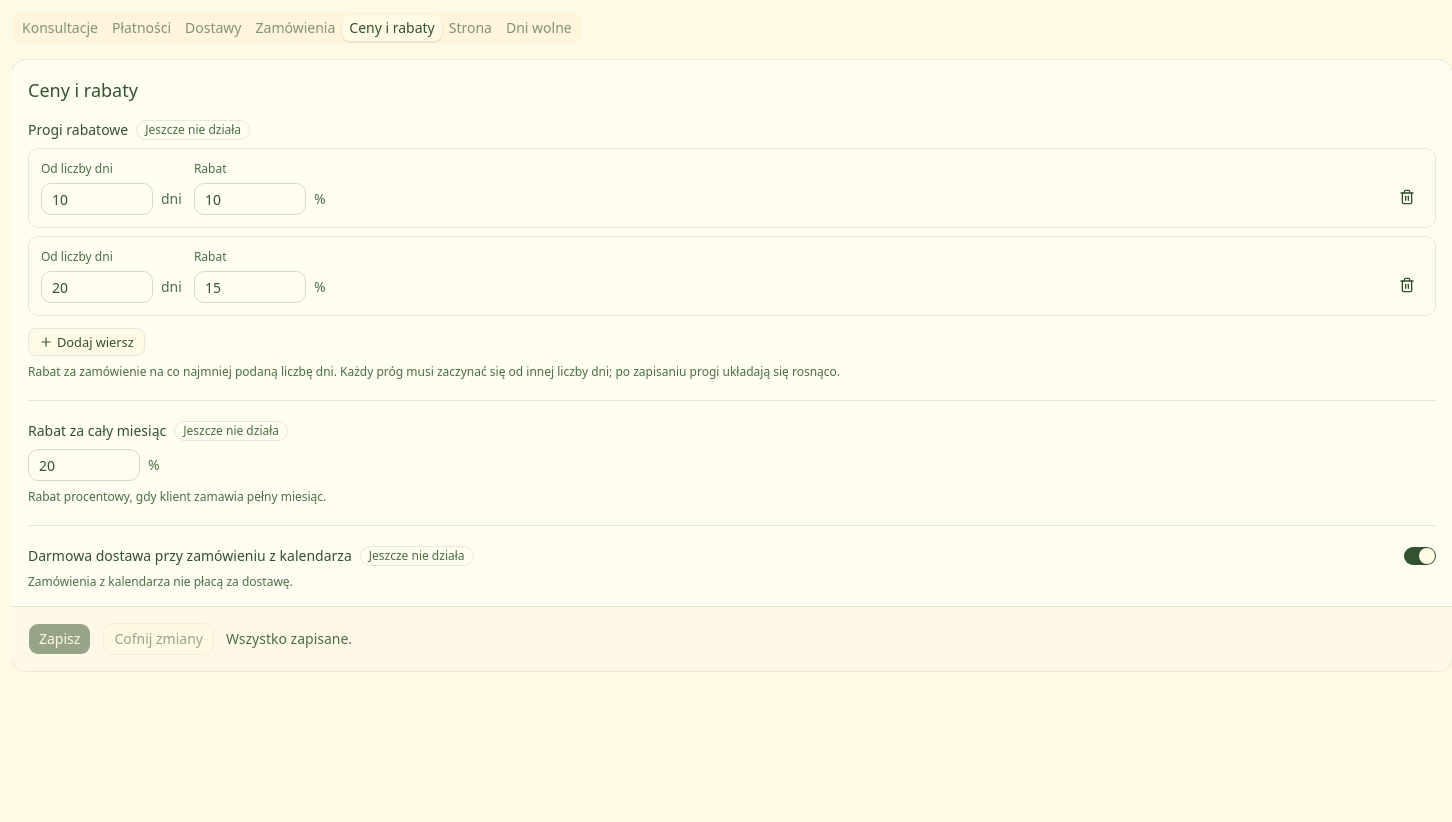
Test: SettingsForm (generated from the registry schema) › discount tiers: add a row, see a duplicate inline, fix it, save sorted; remove a row
This screenshot has width=1452, height=822.
Expected: the number of list items with test id "setting-discountTiers-row" is 2, [28,148,1436,228]; [28,236,1436,316]
Click the button with test id "setting-discountTiers-add". click: (86,342)
box: [28,328,145,356]
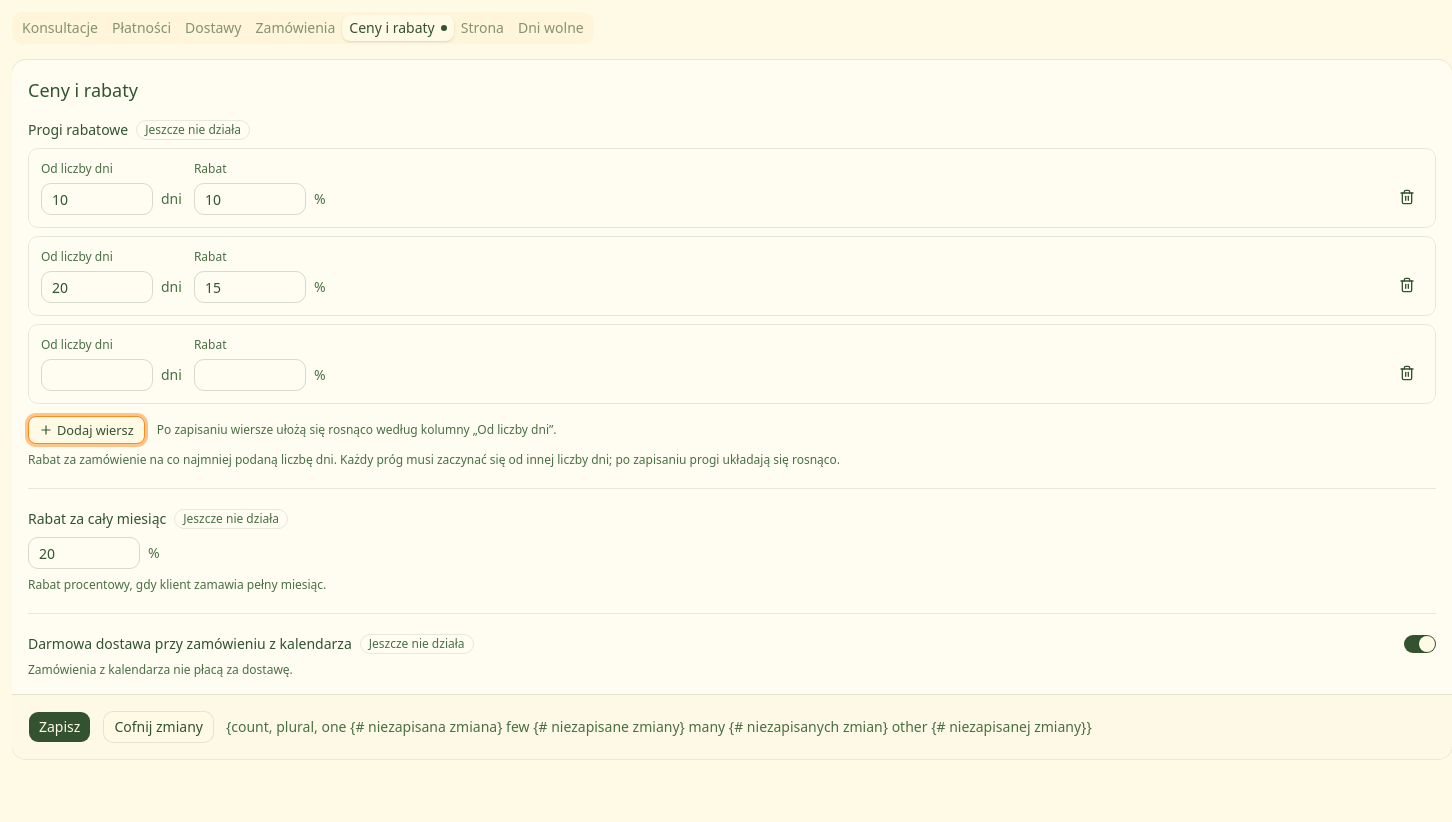
Expected: the number of list items with test id "setting-discountTiers-row" is 3, [28,148,1436,228]; [28,236,1436,316]; [28,324,1436,404]
Type "10" into the 3rd field labelled "Od liczby dni". click: (97,375)
box: [41,359,153,391]
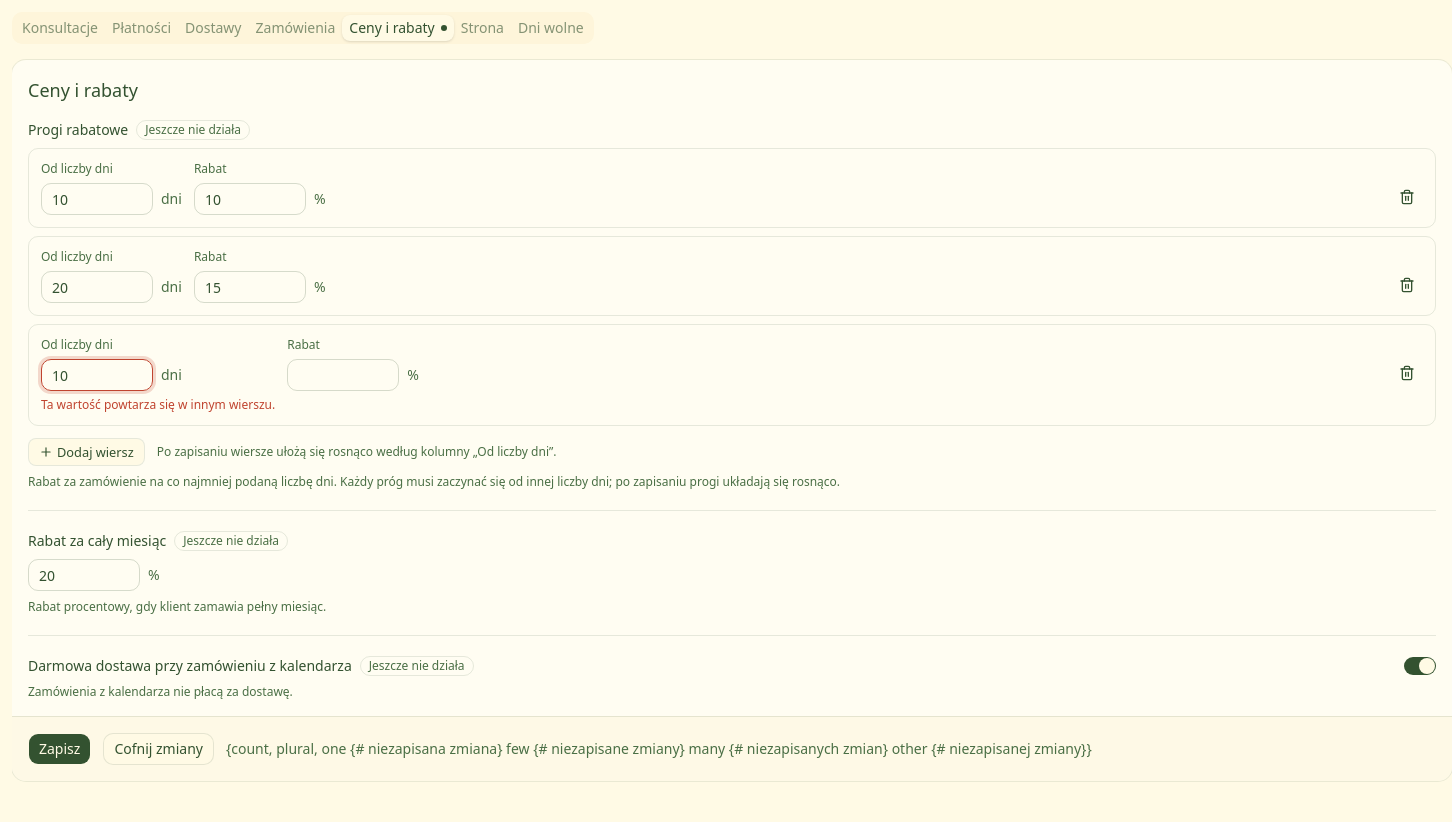
Expected: the text "Ta wartość powtarza się w innym wierszu." is shown, [41,397,275,413]
Replace the text in the 3rd field labelled "Od liczby dni" with "5". click: (97,375)
box: [41,359,153,391]
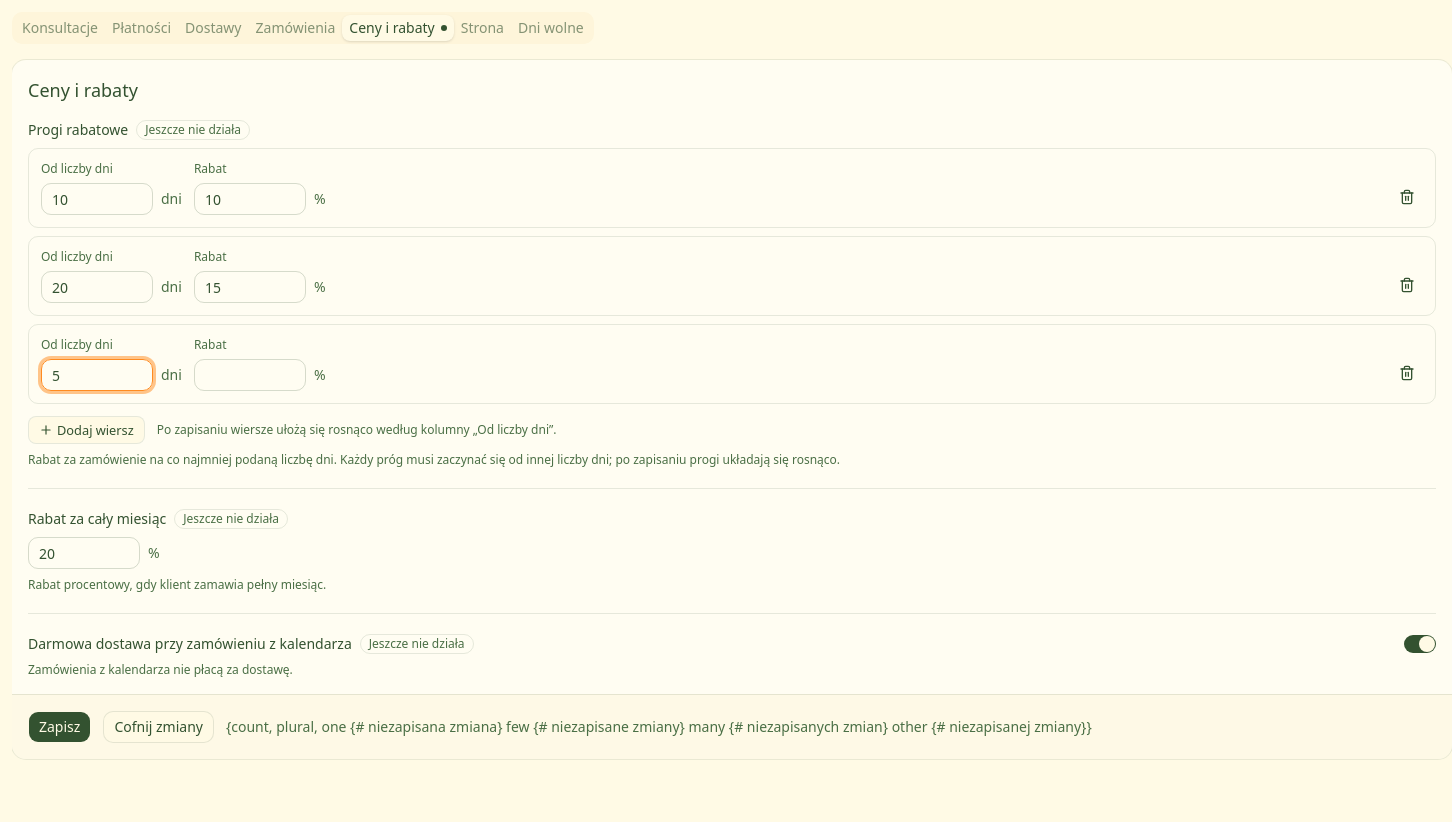
Type "5" into the 3rd field labelled "Rabat". click: (250,375)
box: [194,359,306,391]
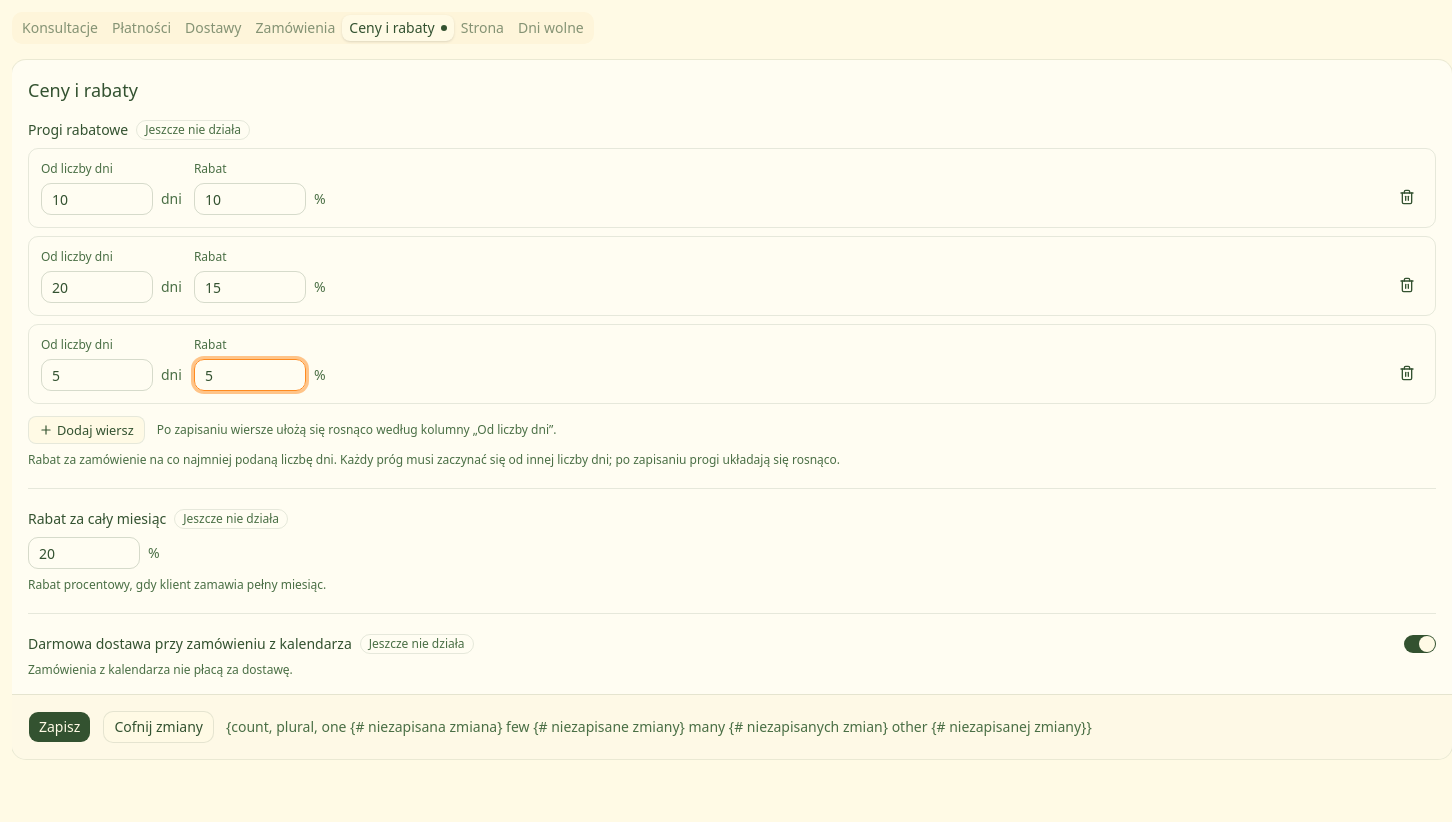
Expected: the text "Ta wartość powtarza się w innym wierszu." is not shown
Expected: the text with test id "setting-discountTiers-unsorted" is shown, [157,422,557,438]
Click the button with test id "settings-save-pricing". click: (60,727)
box: [28,711,91,743]
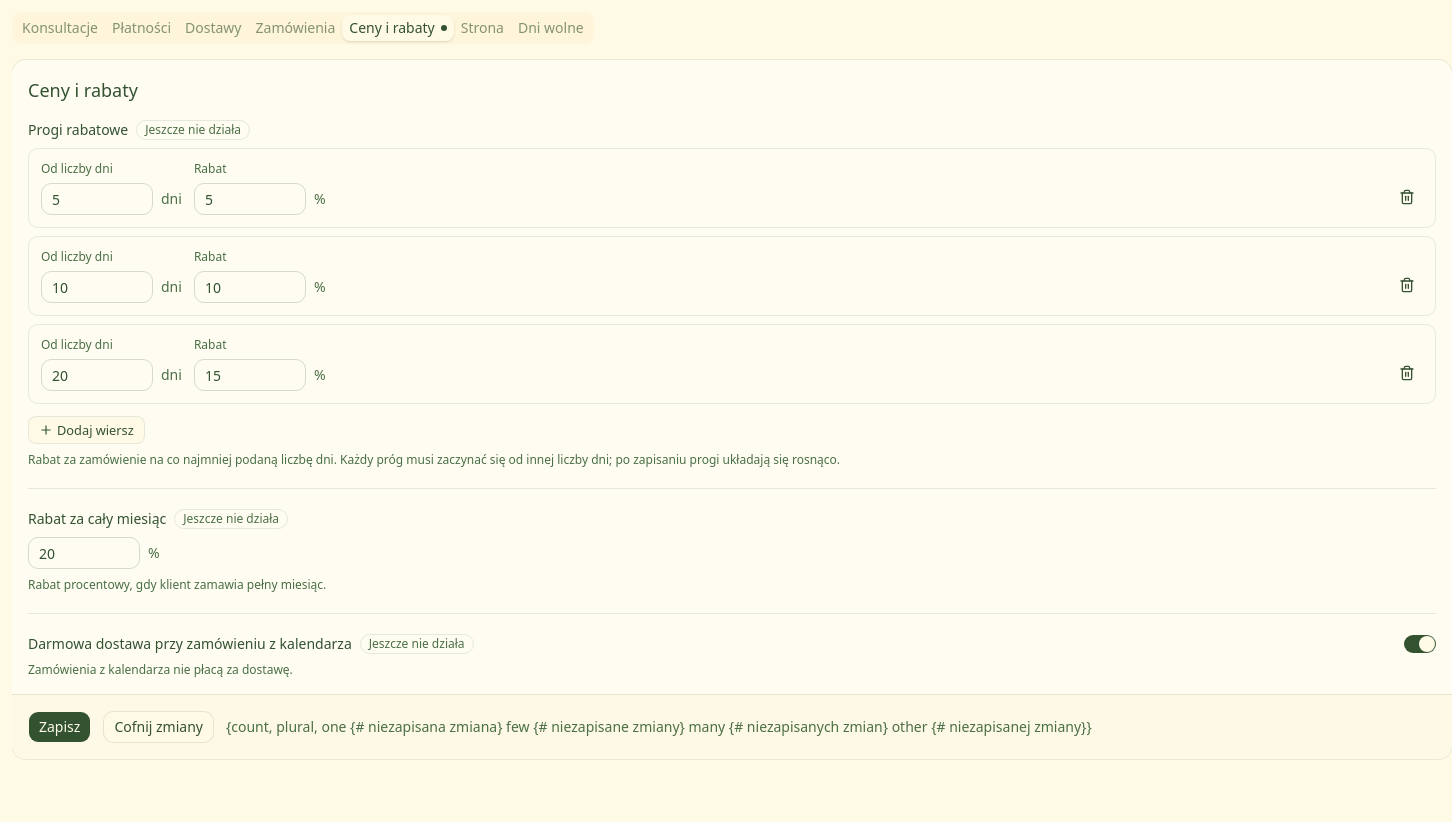
// After the save the form shows what the server stored (sorted).
Click the button with test id "setting-discountTiers-remove". click: (1407,197)
box: [1391,181,1423,213]
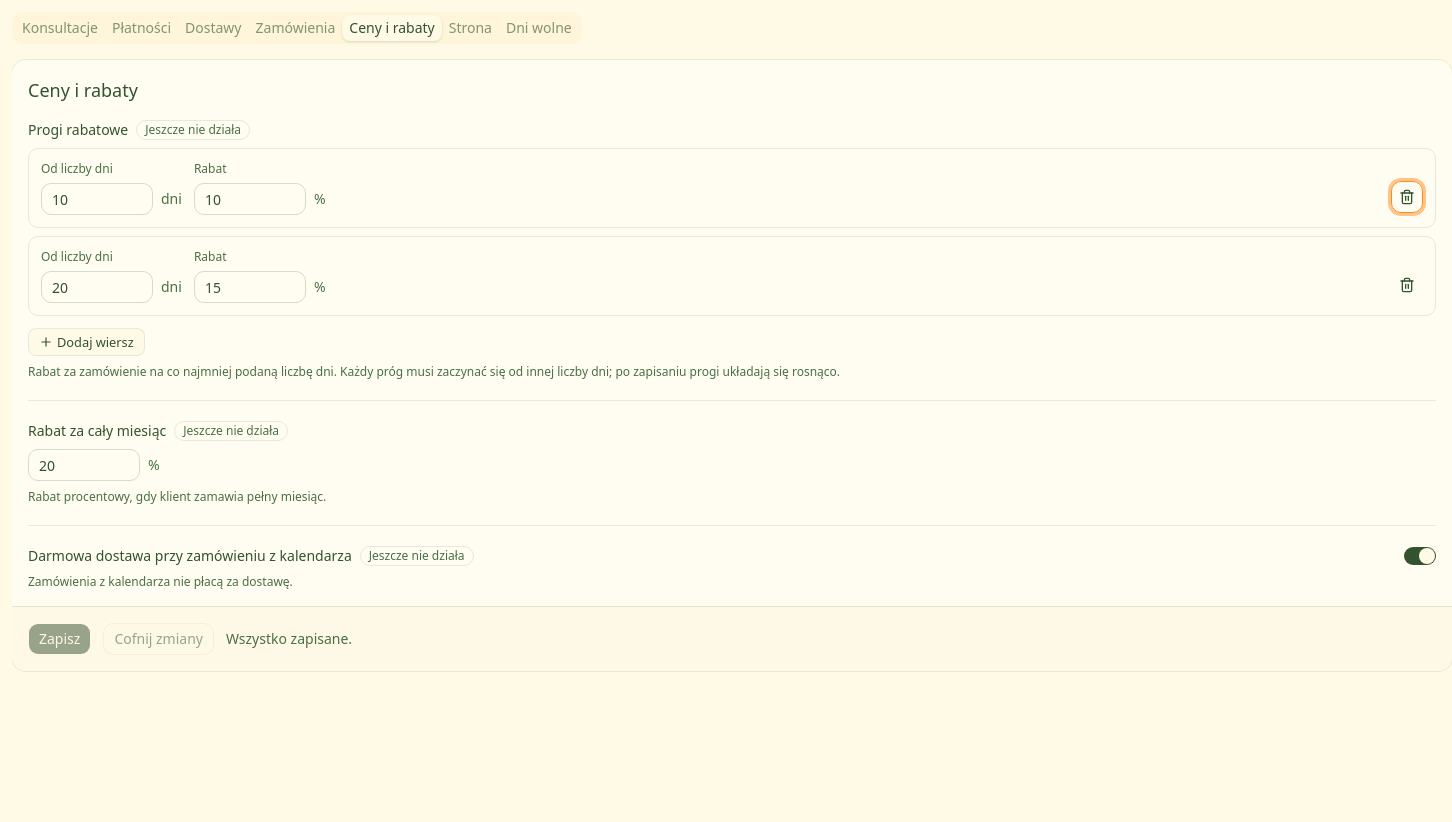
Expected: the number of list items with test id "setting-discountTiers-row" is 2, [28,148,1436,228]; [28,236,1436,316]
